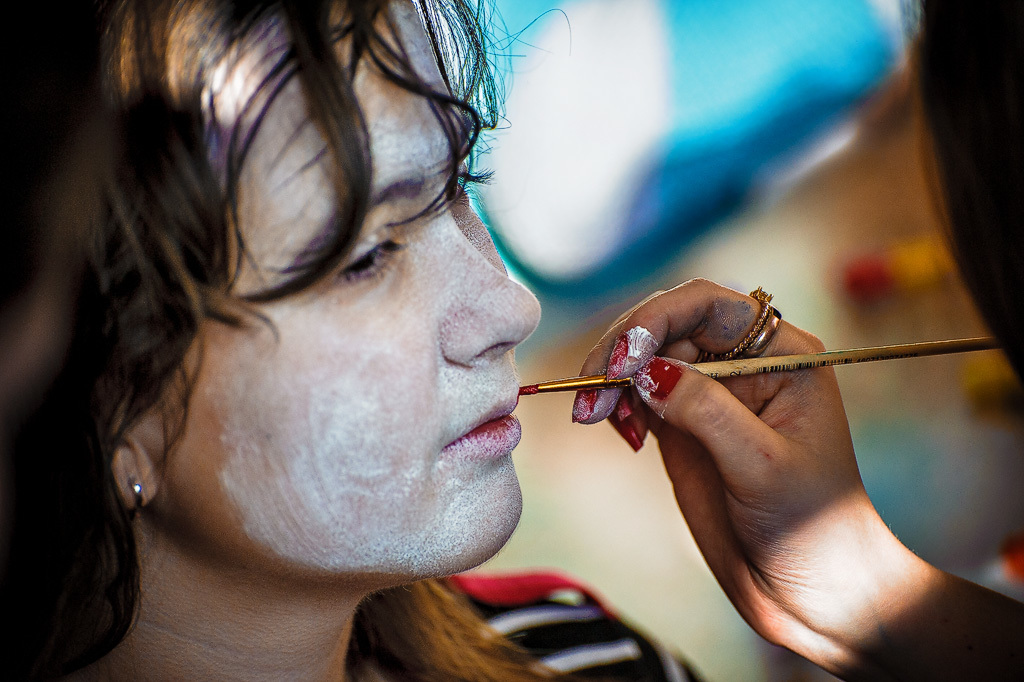Human_hand: (571, 278, 898, 652)
